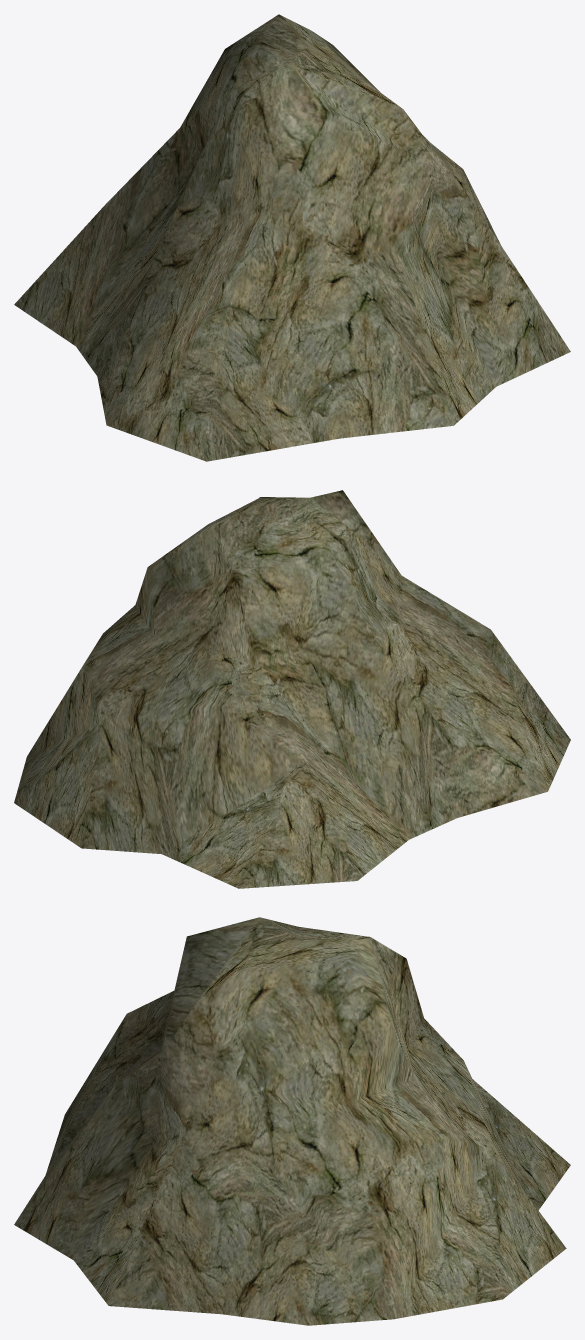
The model's file is rock_plain_white_l2.fbx.
3 views of the same model, one above another, from view 1: azimuth 30°, elevation 25°; view 2: azimuth 150°, elevation 25°; view 3: azimuth 270°, elevation 25° (orthographic). The views are drawn at different scales.
Parts seen in each view (by area): view 1: mesh_node; view 2: mesh_node; view 3: mesh_node.
Part boxes in pixels (x1,y1,x2,y2): mesh_node: (14,14,570,461); mesh_node: (14,490,570,888); mesh_node: (14,917,570,1325).
Bounding box in the file's own units: 5.56 × 3.24 × 5.69.
